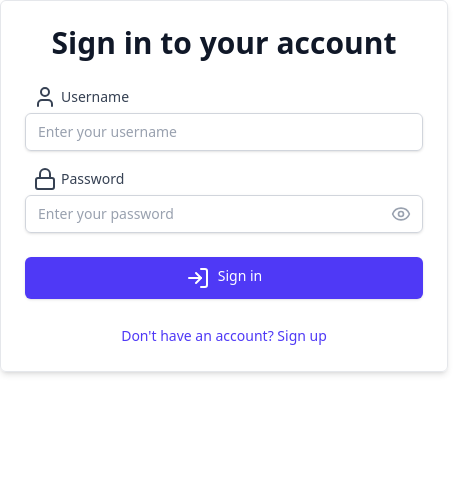
Test: LoginForm › API Integration › handles server errors
In the field labelled "Username": (224, 132) [25,113,423,151], type "testuser"
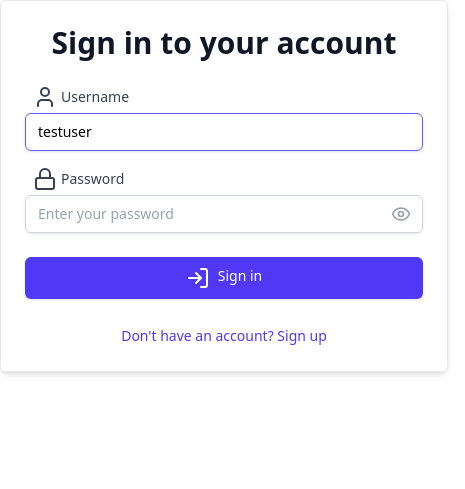
In the password field labelled "Password": (224, 214) [25,195,423,233], type "password123"
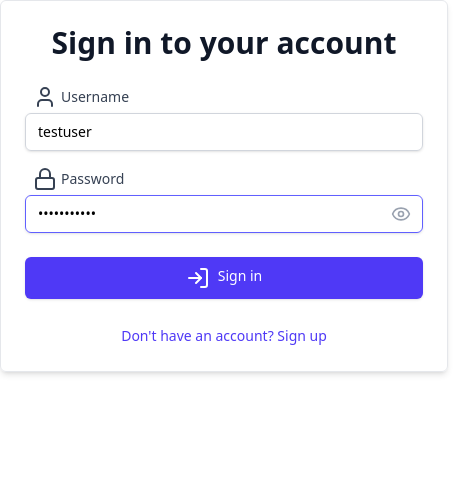
Click the button "Sign in": (224, 278) [25,257,423,299]
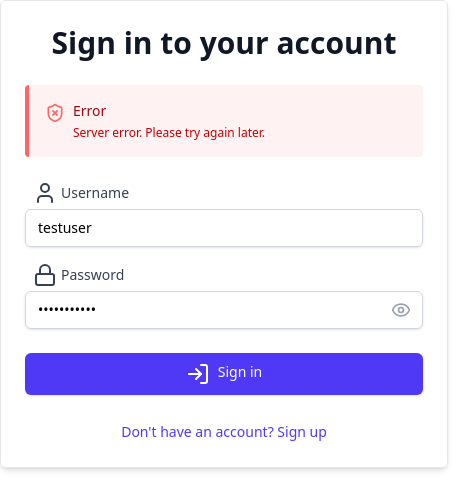
Check: the text "Server error. Please try again later." is shown, box [73,125,265,141]
